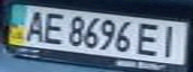6: (115, 18, 139, 54), (81, 16, 103, 50)
8: (63, 14, 87, 48)
9: (97, 17, 118, 52)
A: (18, 7, 51, 43)
E: (133, 20, 166, 57), (39, 10, 69, 45)
I: (154, 22, 187, 58)
